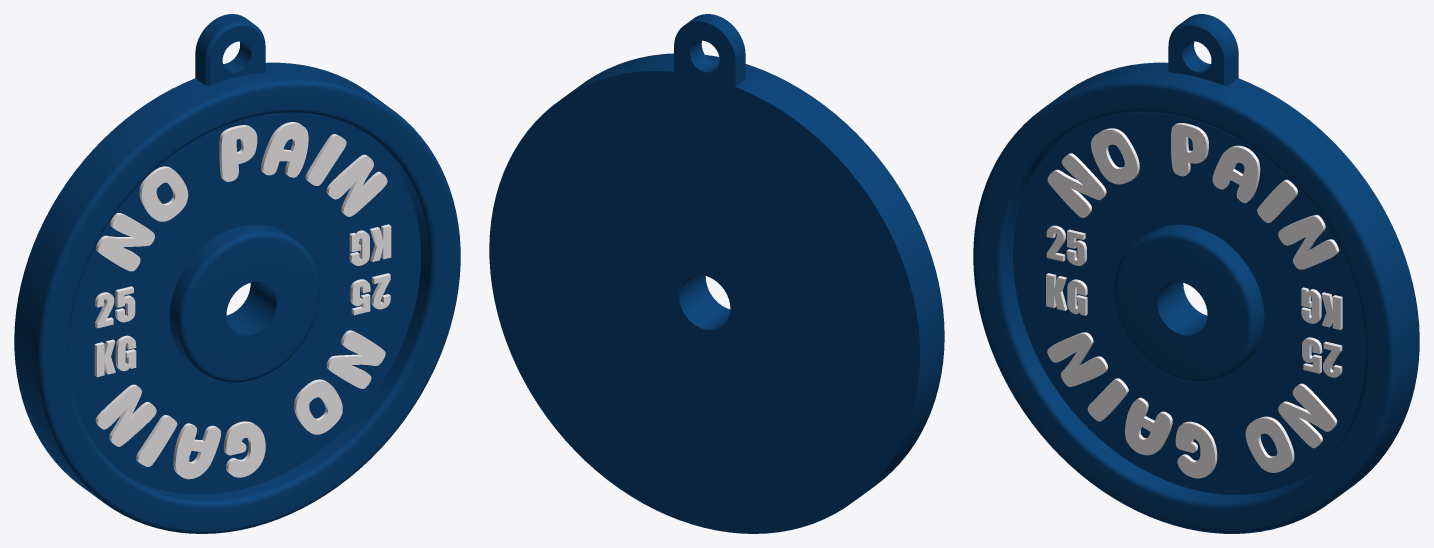
Rendered from NO PAIN NO GAINr.glb.
3 views of the same model, side by side, from view 1: azimuth 30°, elevation 25°; view 2: azimuth 150°, elevation 25°; view 3: azimuth 330°, elevation 25° (orthographic).
Parts seen in each view (by area): view 1: Körper1, Körper14, Körper40, Körper20, Körper41, Körper47, Körper45, Körper24, Körper46, Körper49, Körper37, Körper39 (+9 smaller); view 2: Körper1; view 3: Körper1, Körper41, Körper20, Körper14, Körper40, Körper47, Körper49, Körper24, Körper45, Körper46, Körper37, Körper39 (+7 smaller).
Part boxes in pixels (box(x1,y1,x2,y2)): Körper1: box(14, 14, 460, 533); Körper14: box(326, 154, 387, 216); Körper40: box(95, 384, 156, 446); Körper20: box(326, 330, 385, 388); Körper41: box(96, 213, 154, 271); Körper47: box(261, 122, 308, 177); Körper45: box(173, 423, 221, 479); Körper24: box(139, 166, 188, 221); Körper46: box(224, 421, 265, 477); Körper49: box(294, 379, 342, 434); Körper37: box(219, 125, 257, 181); Körper39: box(136, 415, 177, 466); Körper1: box(489, 14, 944, 533); Körper1: box(973, 14, 1419, 533); Körper41: box(1047, 153, 1106, 217); Körper20: box(1278, 383, 1337, 448); Körper14: box(1278, 214, 1339, 269); Körper40: box(1047, 332, 1108, 386); Körper47: box(1212, 145, 1260, 203); Körper49: box(1245, 416, 1294, 472); Körper24: box(1091, 128, 1139, 184); Körper45: box(1125, 397, 1172, 455); Körper46: box(1175, 421, 1217, 478); Körper37: box(1171, 123, 1208, 176); Körper39: box(1087, 378, 1128, 421).
Bounding box in the file's own units: 0.042 × 0.0471 × 0.0045.
